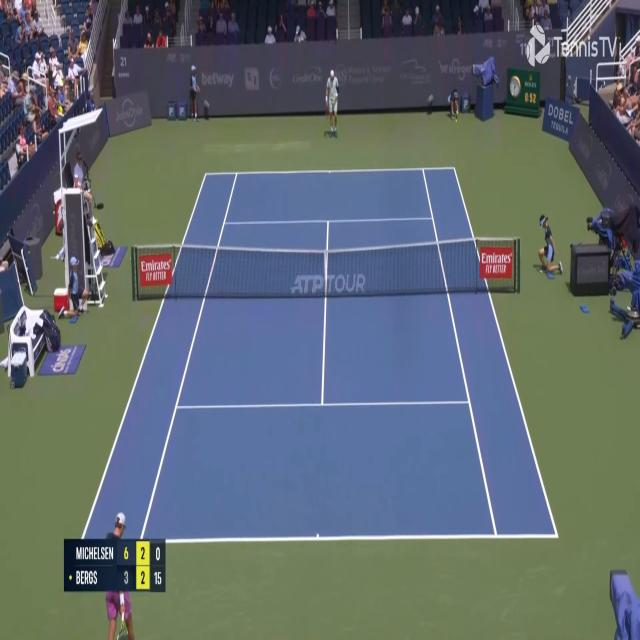tennis-player: (104, 509, 137, 639), (325, 69, 340, 137)
